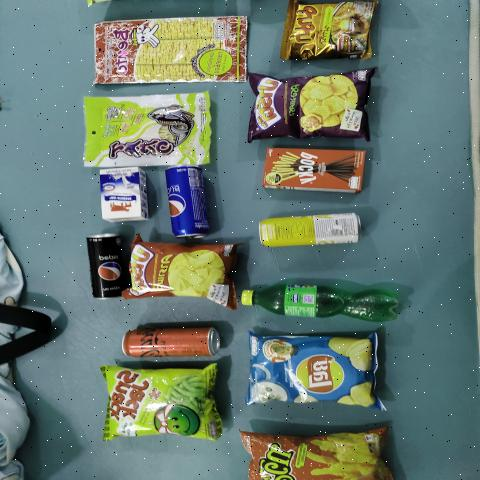bento_red: (104, 20, 241, 77)
coke_red: (124, 329, 212, 353)
fanta_green: (234, 284, 396, 314)
lay_blue: (252, 340, 368, 403)
mama: (273, 0, 369, 59)
party_purple: (246, 77, 370, 136)
party_red: (134, 246, 224, 296)
pepsi_black: (90, 235, 118, 294)
pepsi_blue: (171, 167, 209, 232)
pokki: (256, 151, 366, 189)
singha_yellow: (248, 208, 368, 250)
snack_jack: (108, 368, 200, 436)
taro_yellow: (91, 94, 204, 169)
thai_denmark: (103, 170, 139, 217)
twisco: (254, 431, 373, 480)
